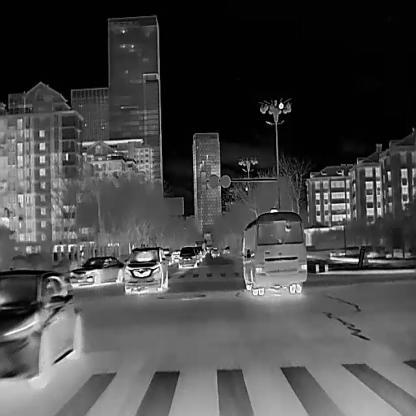car: (0, 267, 83, 385), (240, 206, 306, 295), (124, 246, 167, 293), (67, 255, 125, 286), (178, 245, 197, 267), (194, 239, 205, 257), (171, 249, 180, 261), (211, 247, 219, 257)
